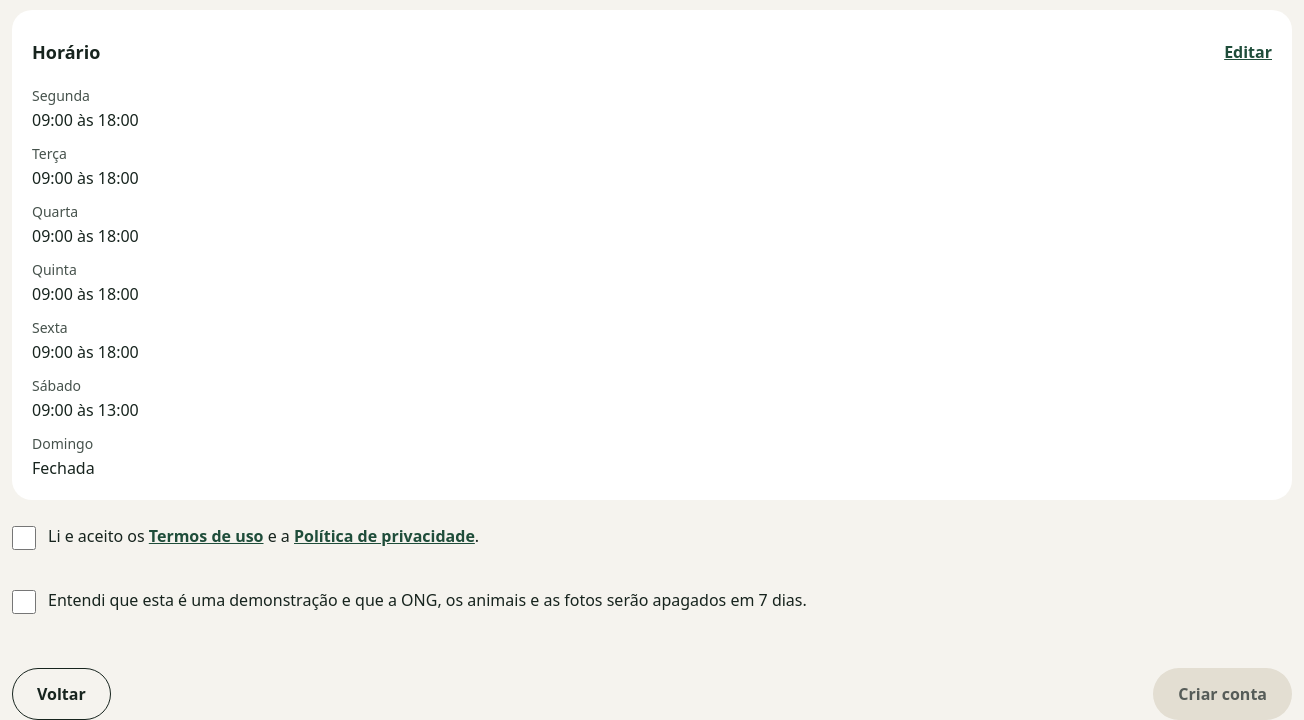
Test: SignupWizard › SIGN-28: "Criar conta" envia o assistente com o signupRequestId e a imagem guardada
(page scrolled)
Click the checkbox named "Li e aceito os Termos de uso e a Política de privacidade.". click: (24, 538)
box: [12,526,36,550]
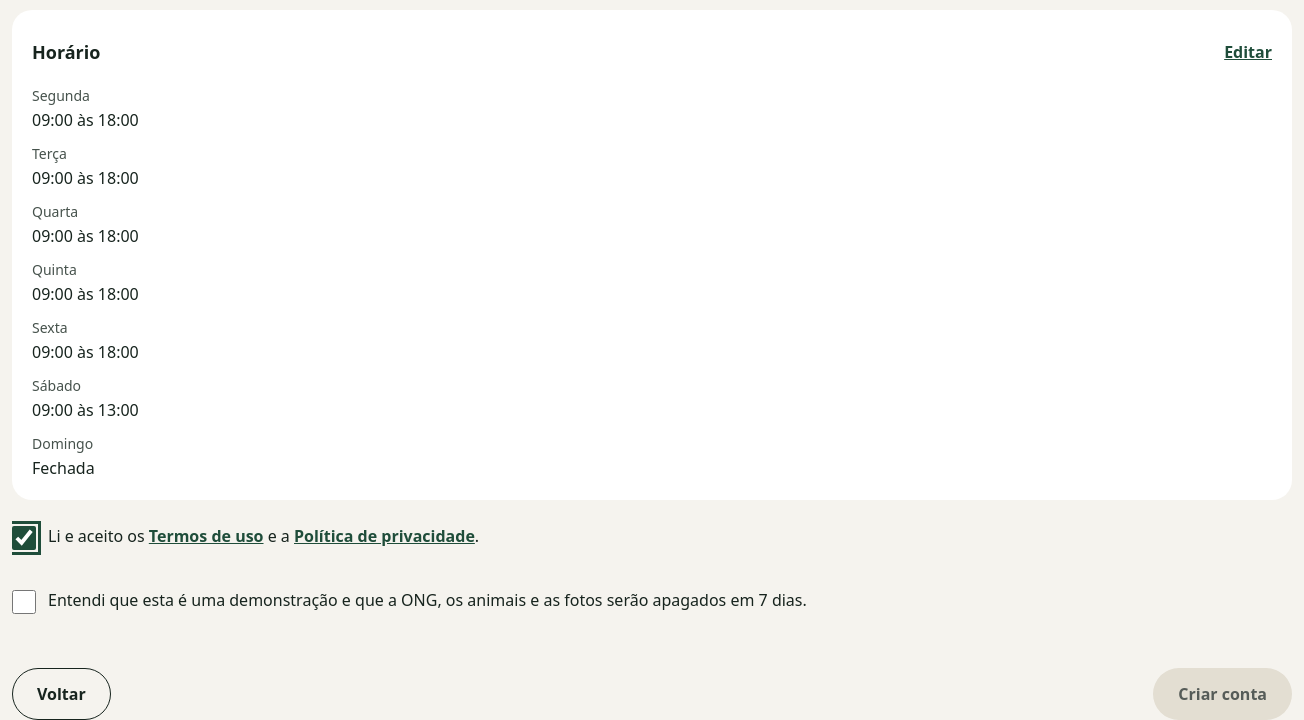
Click the checkbox named "Entendi que esta é uma demonstração e que a ONG, os animais e as fotos serão apagados em 7 dias.". click: (24, 602)
box: [12,590,36,614]
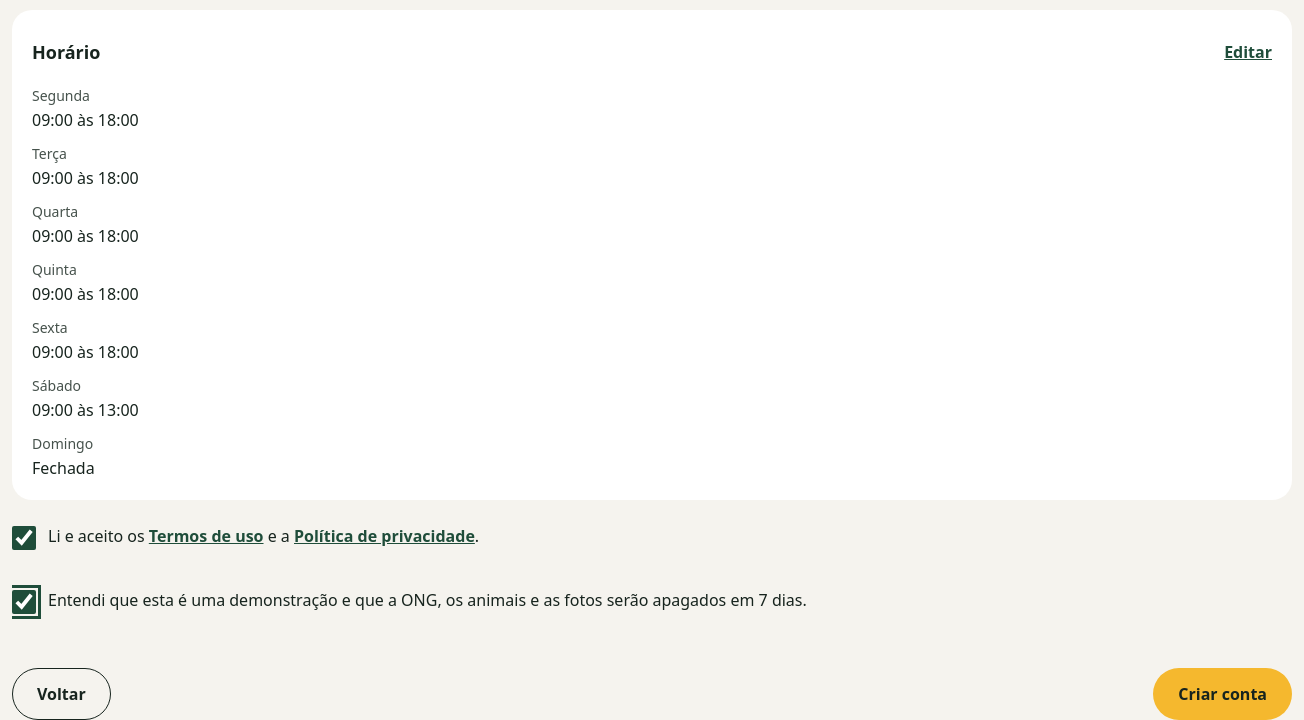
Click the button "Criar conta". click: (1223, 694)
box: [1153,668,1292,719]
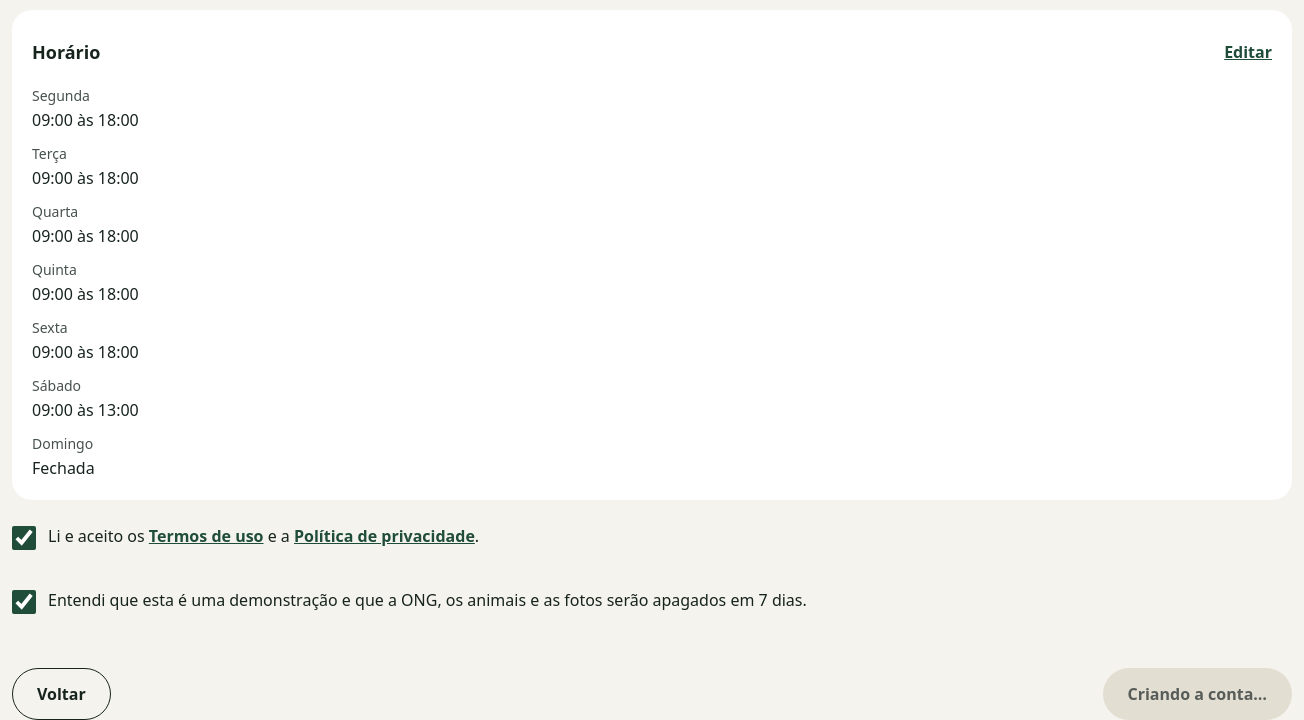
expect the button "Criando a conta…" is disabled: met, box [1102,668,1292,719]
